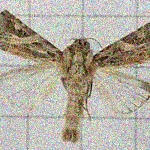Spodoptera litura: (1, 9, 150, 144)
